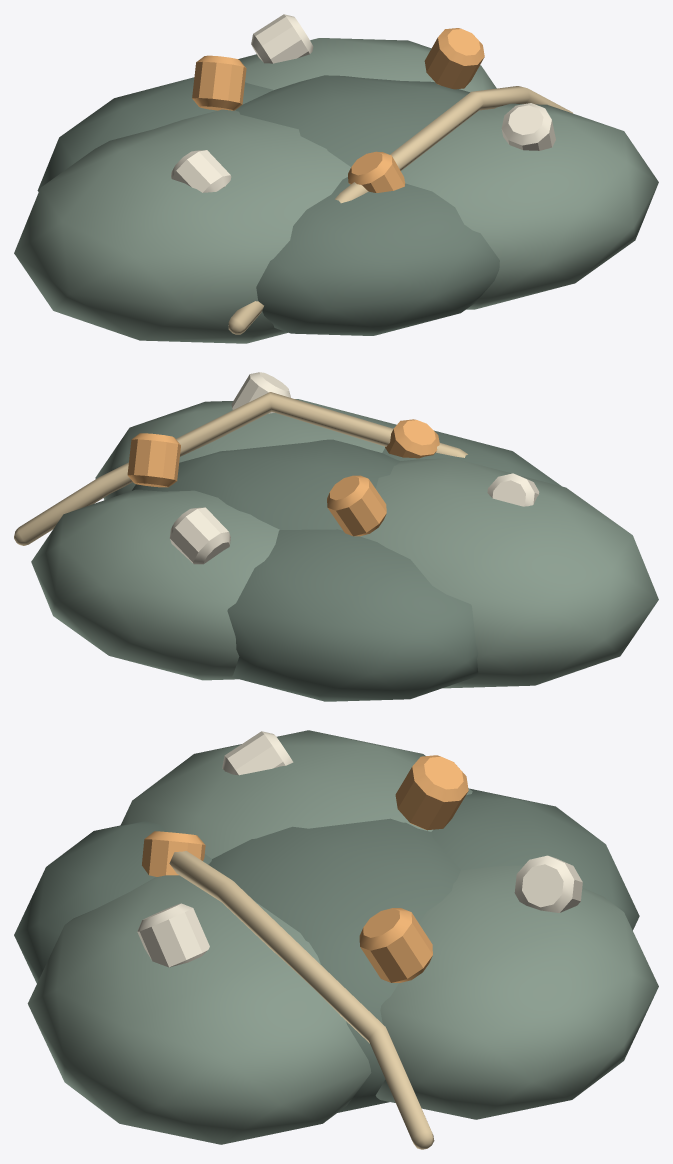
Rendered from net_pile.glb.
The picture shows the model from 3 angles, top to bottom: view 1: azimuth 30°, elevation 25°; view 2: azimuth 150°, elevation 25°; view 3: azimuth 270°, elevation 25°; orthographic projection. The views are drawn at different scales.
Visible parts, largest first — view 1: net_pile; view 2: net_pile; view 3: net_pile.
Boxes of the visible parts, box(x1,y1,x2,y2) form: net_pile: box(14, 14, 658, 343); net_pile: box(14, 372, 658, 701); net_pile: box(14, 730, 658, 1149).
Size of the model in its own units: 0.9151 by 0.3244 by 0.727.
